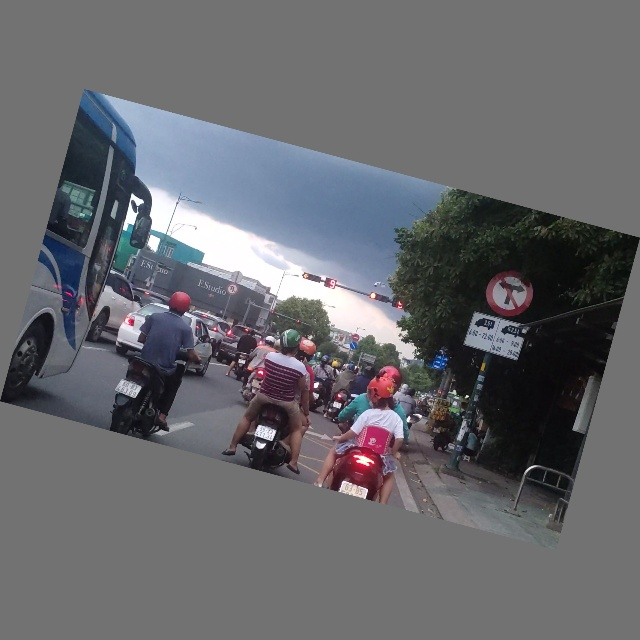P.102: (351, 333, 361, 343)
P.124a*: (225, 282, 240, 297)
P.137: (481, 267, 537, 322)
R.302a: (348, 341, 358, 351)
S.505a*Xe tai: (462, 310, 528, 362)
